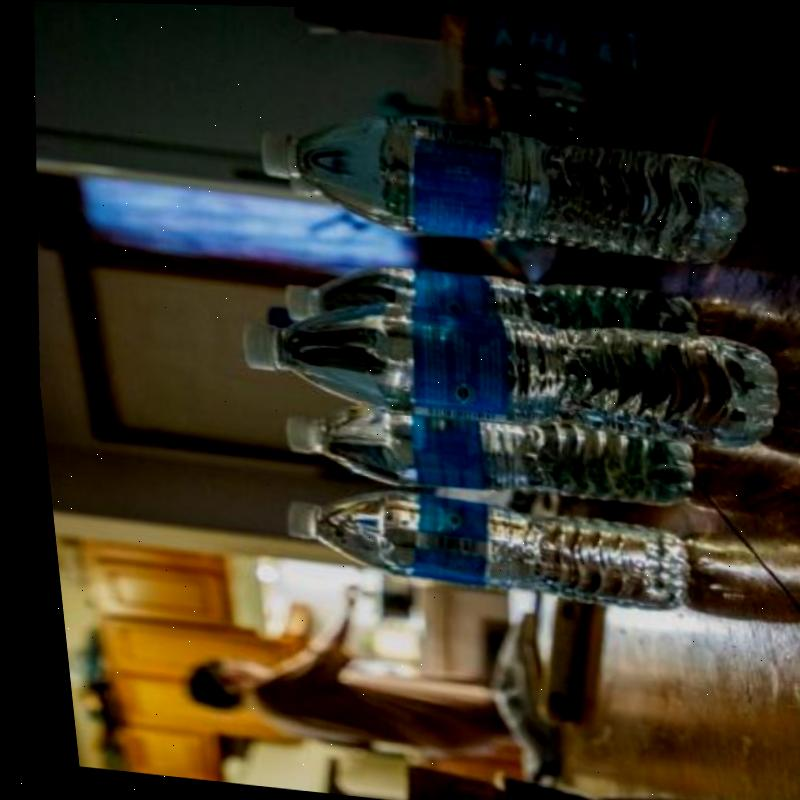botella: (219, 281, 786, 457), (249, 92, 754, 272), (264, 472, 690, 616), (269, 390, 697, 514), (276, 250, 700, 362)
